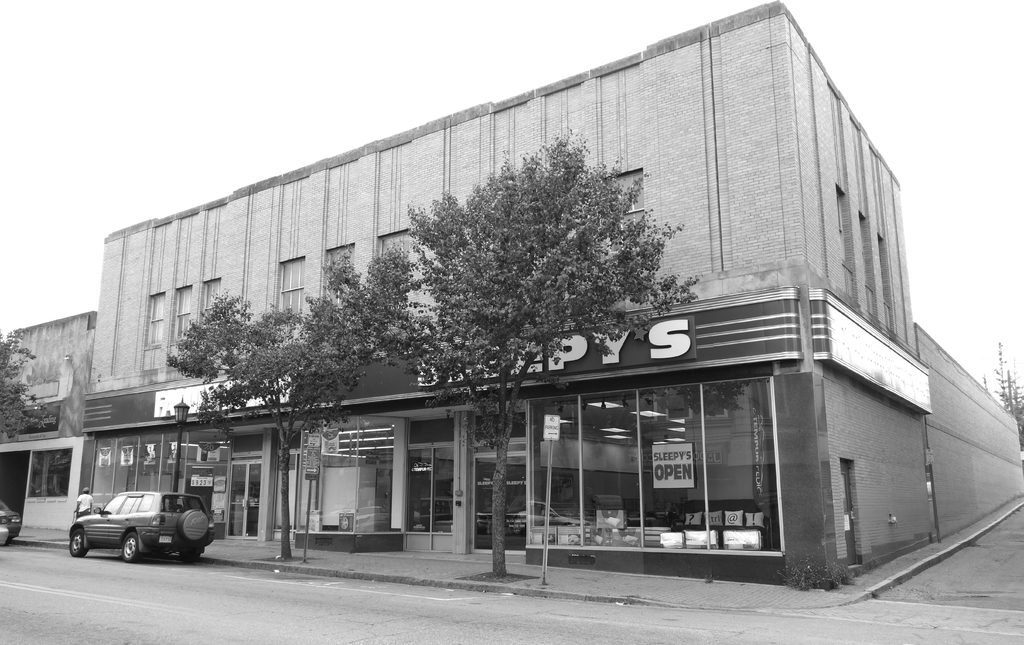Car: (0, 502, 24, 548)
